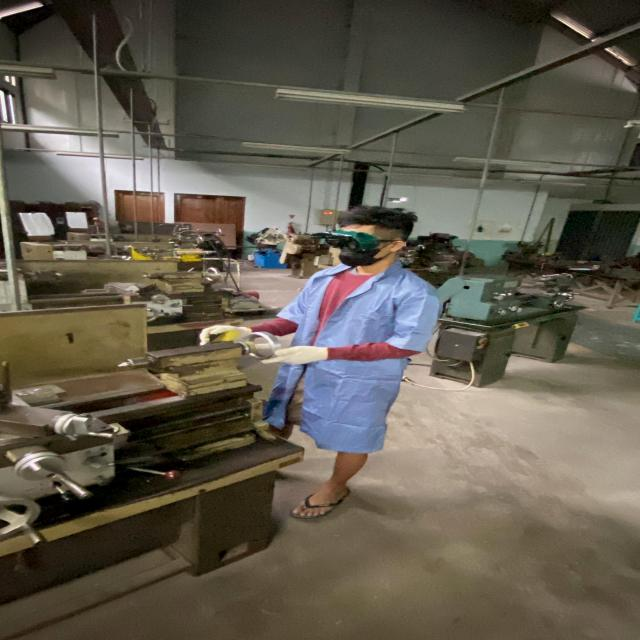face_mask: (317, 230, 392, 268)
glasses: (304, 228, 392, 252)
hand_glove: (193, 322, 259, 348), (266, 343, 332, 367)
head_nohelmet: (333, 204, 412, 234)
